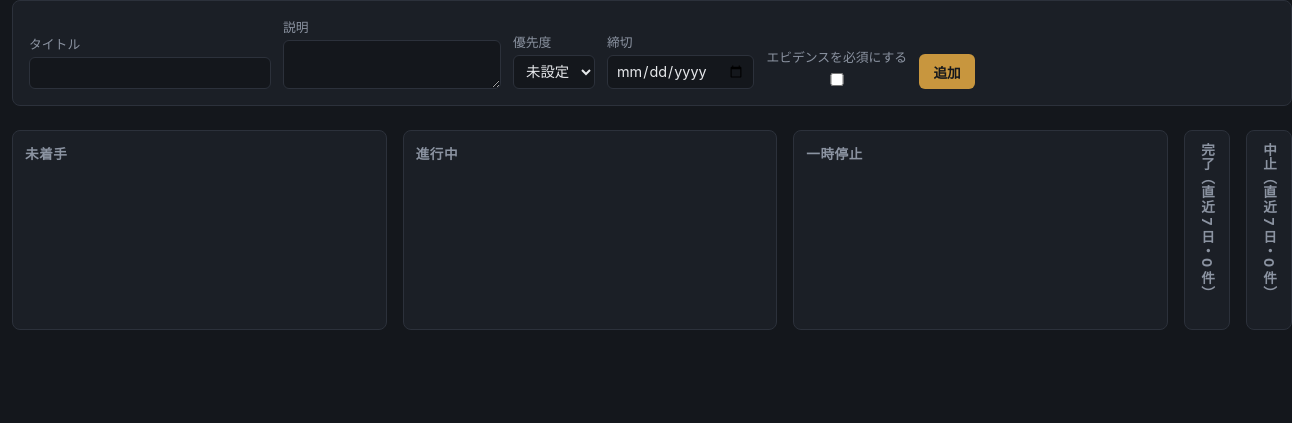
Test case: TaskBoard › shows an alert when creating a task fails
The image size is (1292, 423).
Type "失敗するタスク" into the field labelled "タイトル" at point(150, 73), box top-left (29, 57), bottom-right (271, 89)
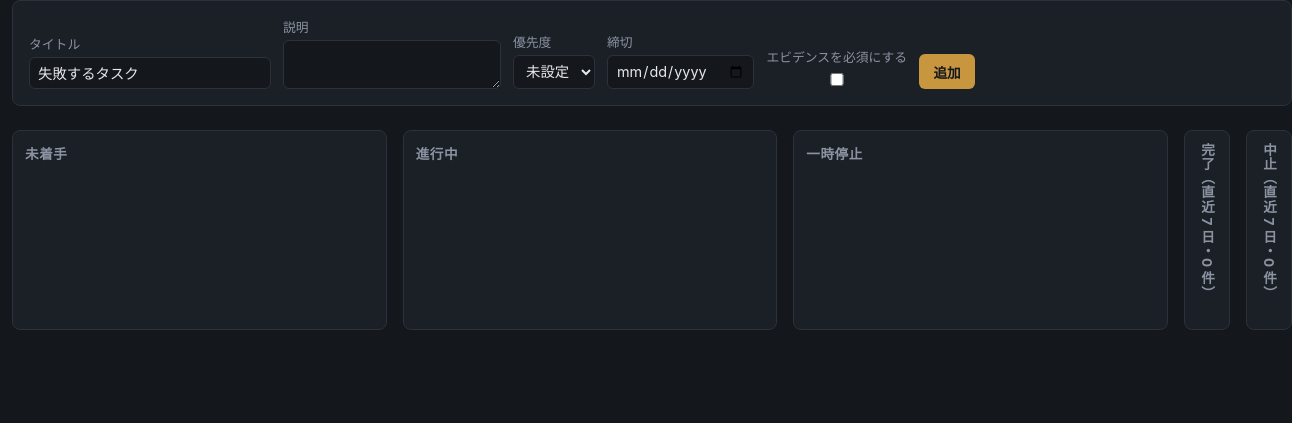
Click the button "追加" at point(947, 72), box top-left (919, 54), bottom-right (975, 89)
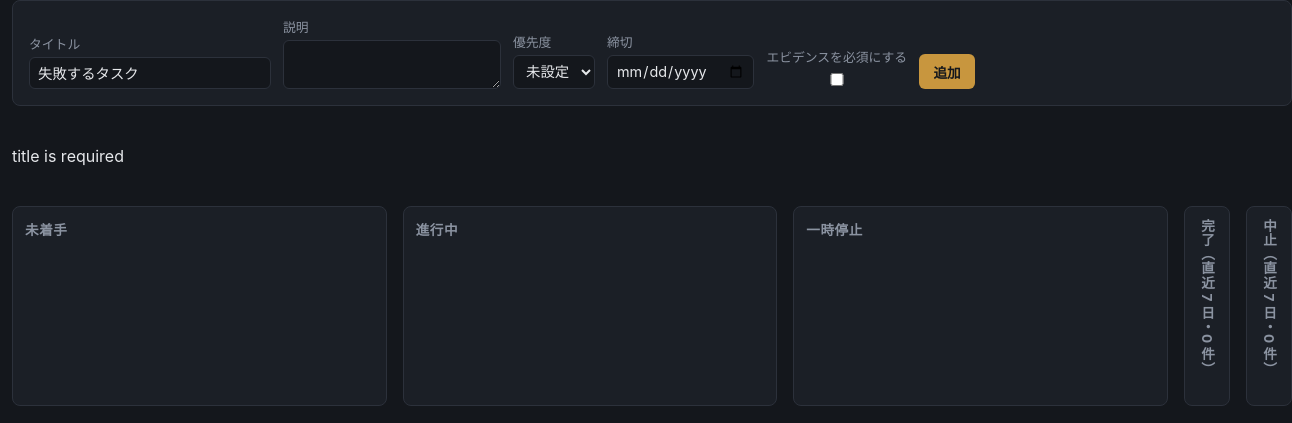
Check: the message reads "title is required", box top-left (12, 146), bottom-right (124, 166)
